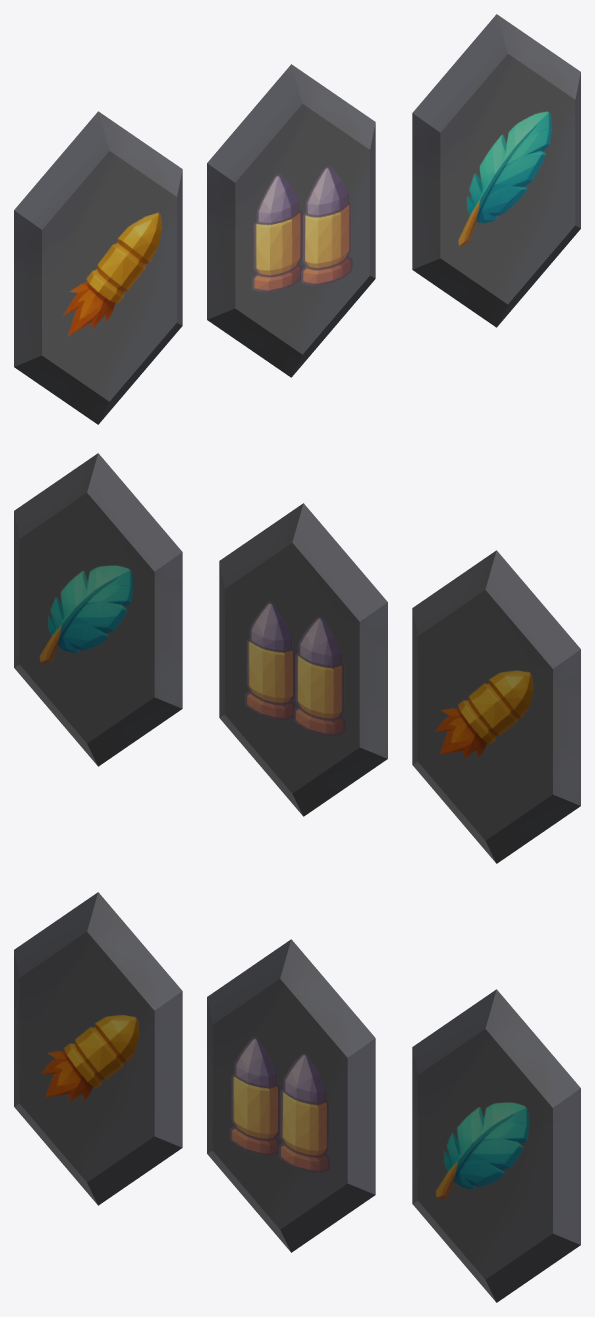
File: PowerUps.fbx
3 views of the same model, one above another, from view 1: azimuth 30°, elevation 25°; view 2: azimuth 150°, elevation 25°; view 3: azimuth 330°, elevation 25° (orthographic).
Parts seen in each view (by area): view 1: Agility, FireRate, DoubleShot; view 2: Agility, FireRate, DoubleShot; view 3: Agility, FireRate, DoubleShot.
Boxes of the visible parts, bbox=[...] form: Agility: bbox=[412, 14, 580, 327]; FireRate: bbox=[14, 111, 182, 424]; DoubleShot: bbox=[207, 64, 375, 377]; Agility: bbox=[14, 453, 182, 766]; FireRate: bbox=[412, 550, 580, 863]; DoubleShot: bbox=[219, 503, 387, 816]; Agility: bbox=[412, 989, 580, 1302]; FireRate: bbox=[14, 892, 182, 1205]; DoubleShot: bbox=[207, 939, 375, 1252].
Bounding box in the file's own units: 1.12 × 0.5926 × 0.077.
